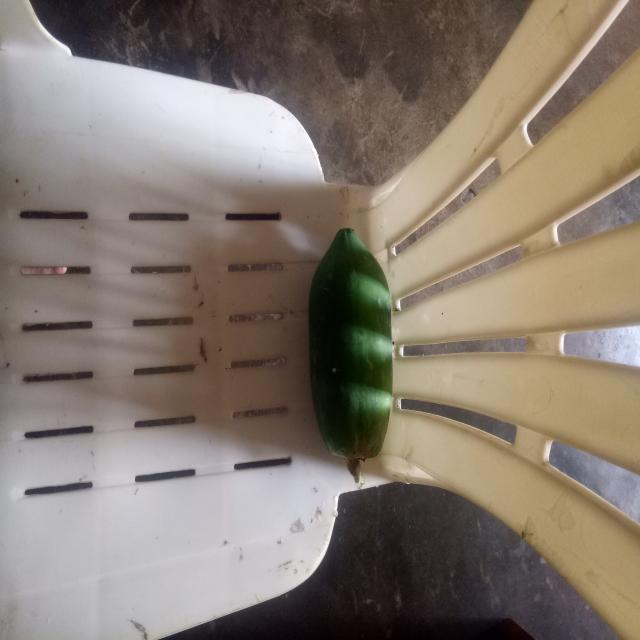Pepaya unrippen: (299, 216, 400, 482)
